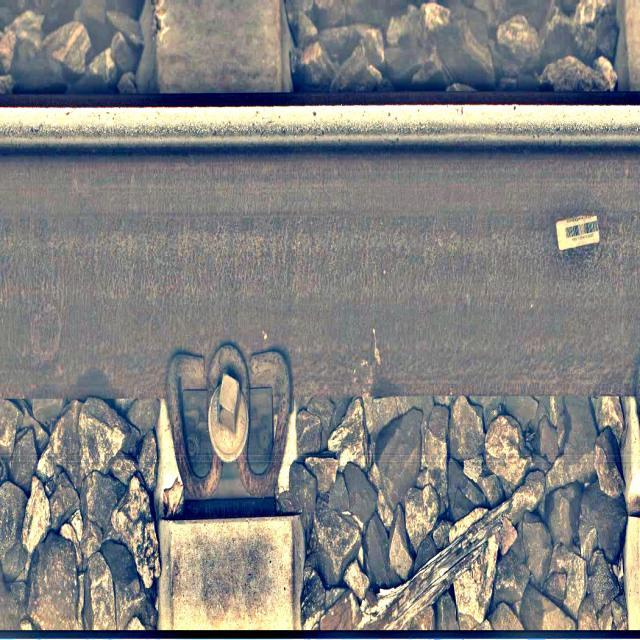Good Fasteners: (168, 342, 294, 502)
